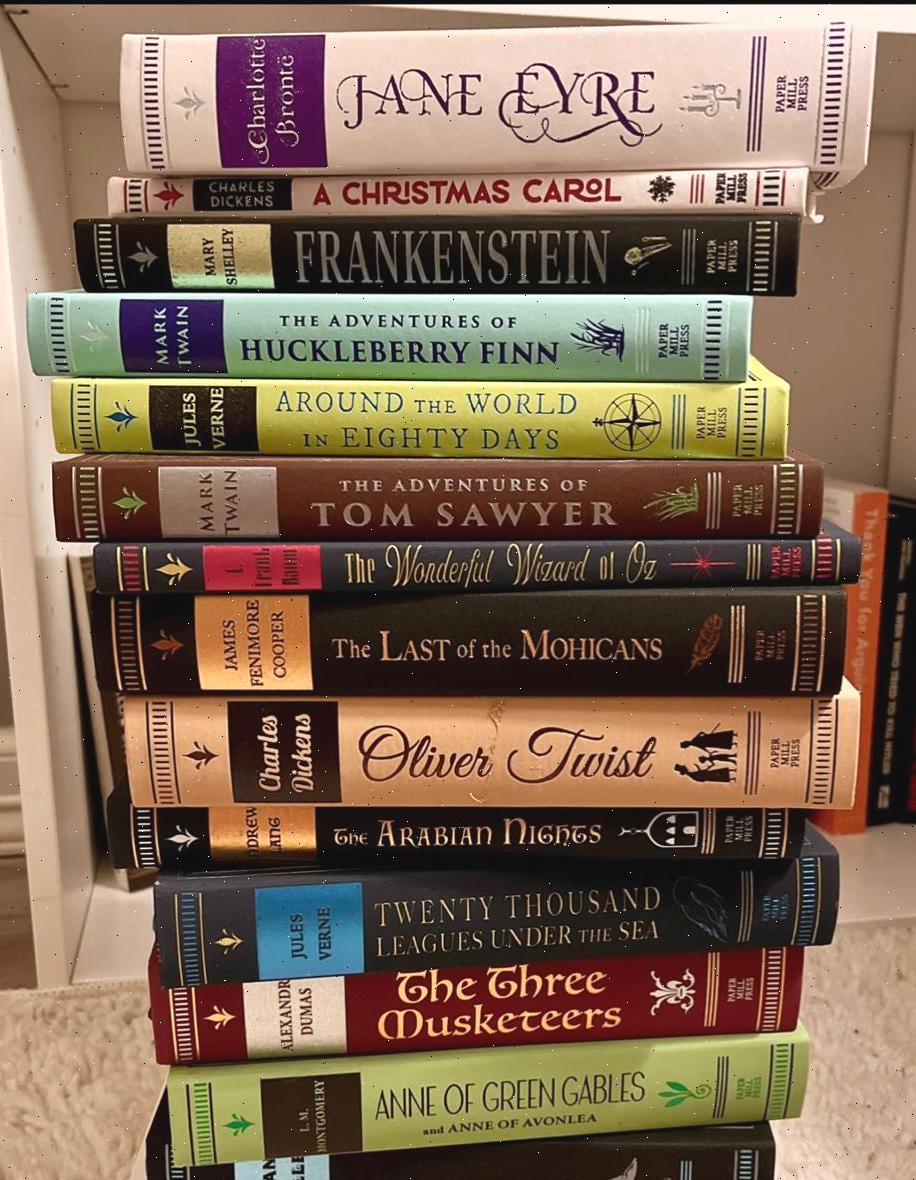book: (151, 834, 830, 982), (161, 1015, 800, 1167), (124, 685, 857, 812), (108, 582, 848, 691), (62, 446, 825, 543), (166, 953, 799, 1061), (126, 787, 836, 882), (59, 372, 789, 459), (28, 296, 746, 380), (81, 213, 788, 296), (90, 527, 843, 601), (117, 167, 808, 221)
